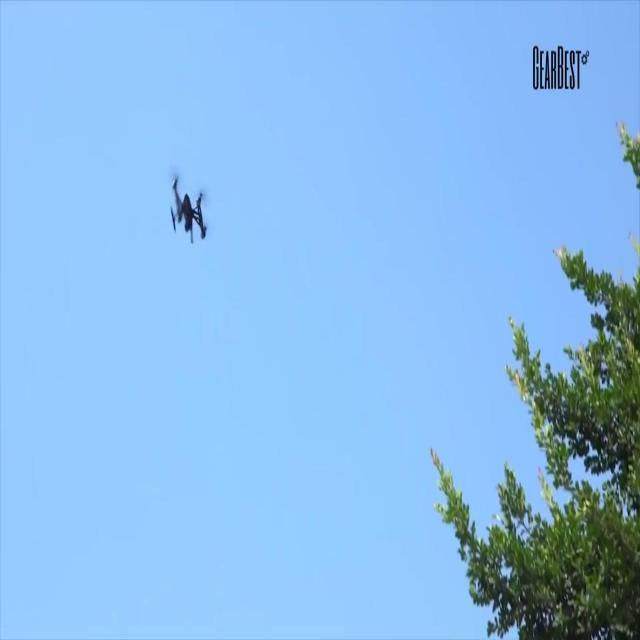UAV: (171, 174, 207, 244)
